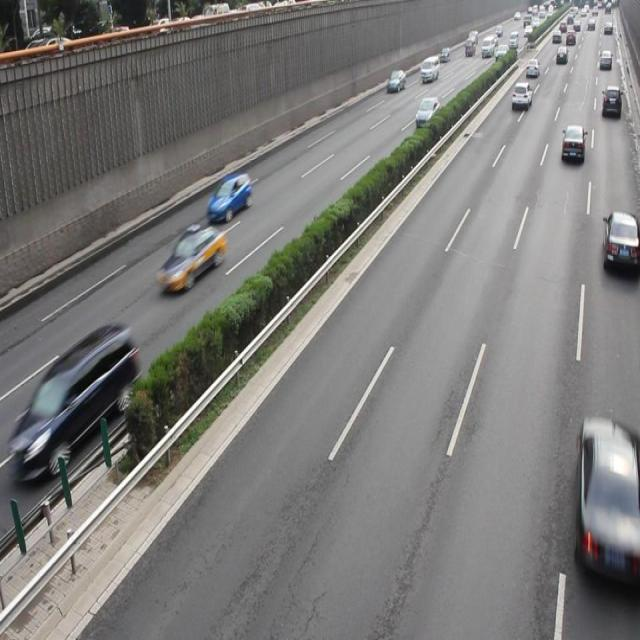car: (575, 417, 640, 579), (156, 221, 226, 293), (601, 209, 640, 276), (207, 172, 252, 223), (560, 123, 583, 163), (414, 94, 438, 126), (601, 83, 620, 118)
truck: (17, 324, 138, 480)
